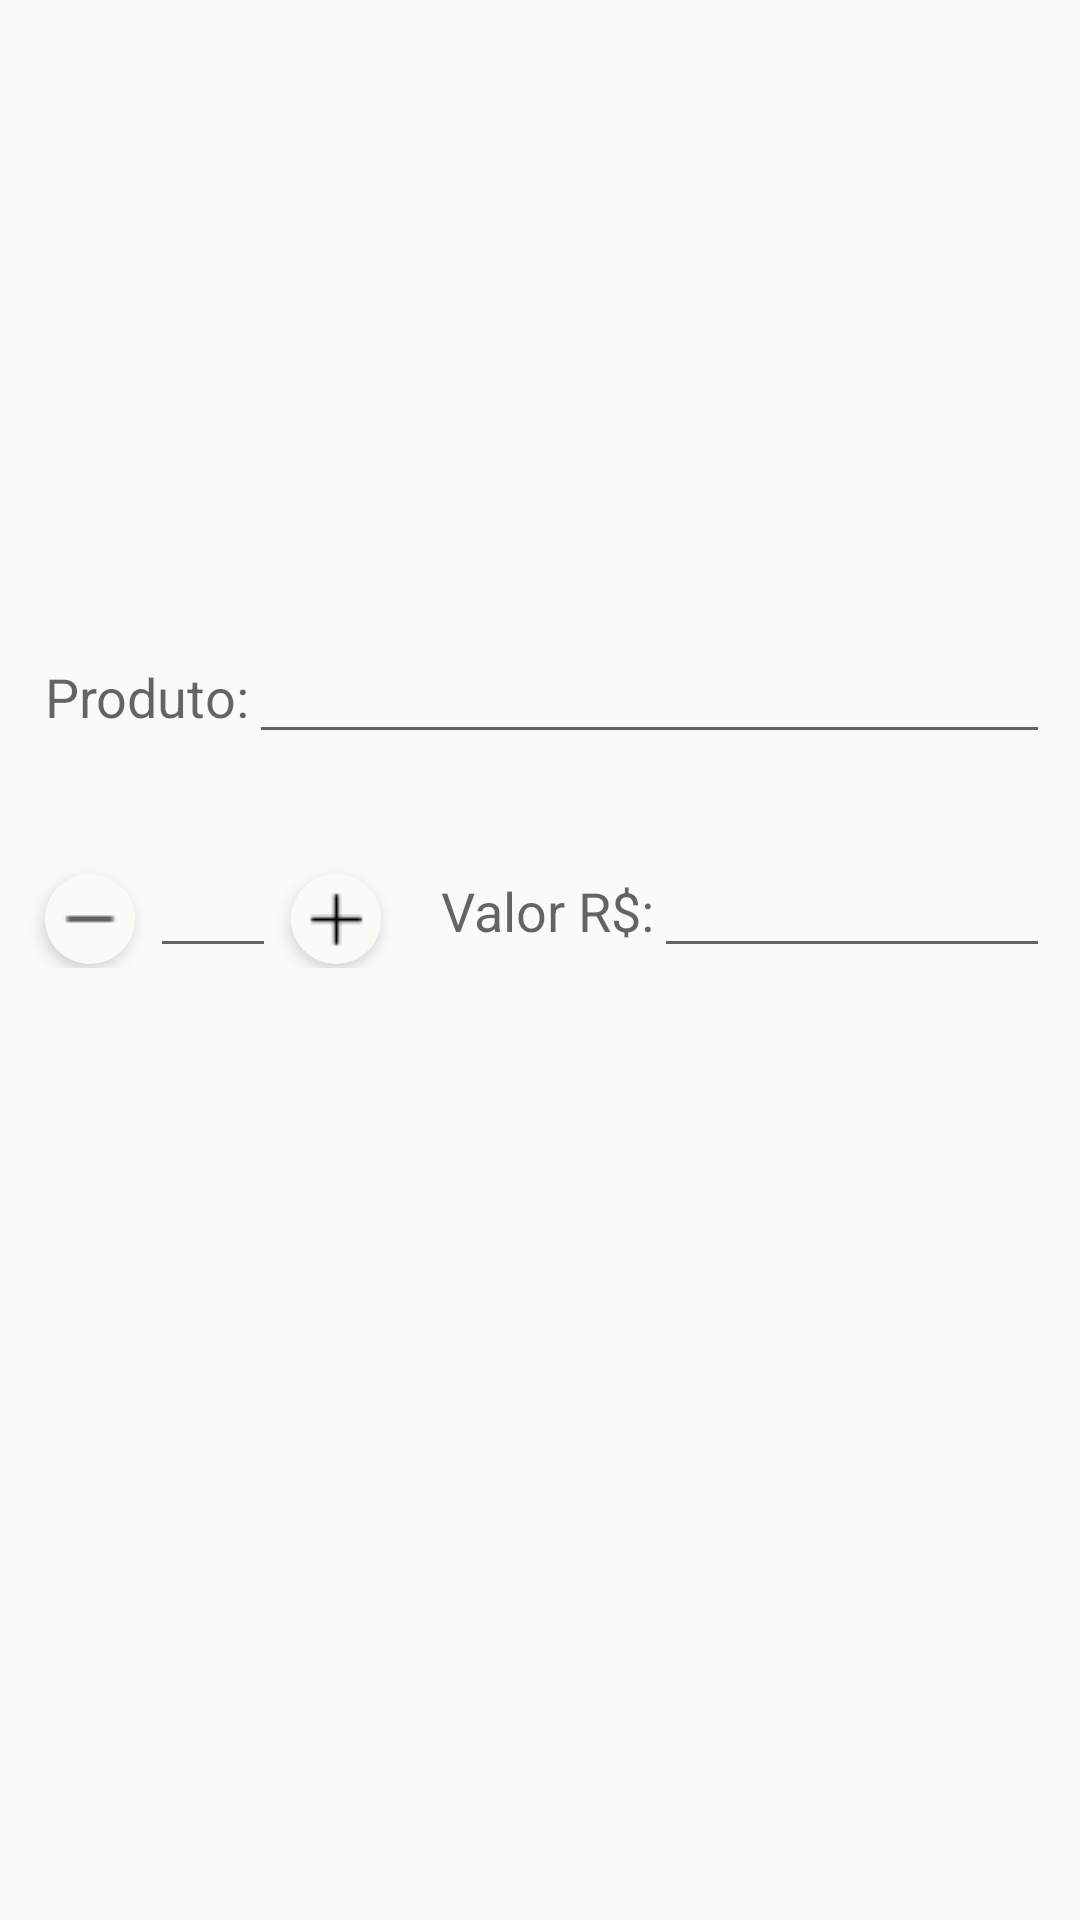

Where to tap for icons on this 1080px×1920px app screen, as (x,y):
qtd add: (336,928)
qtd sub: (84,939)
